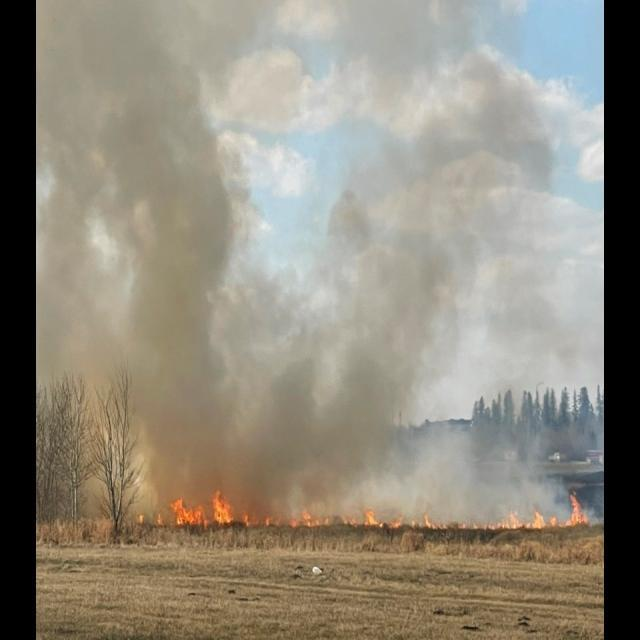Fire: (142, 484, 256, 534)
Smoke: (34, 0, 584, 482)
